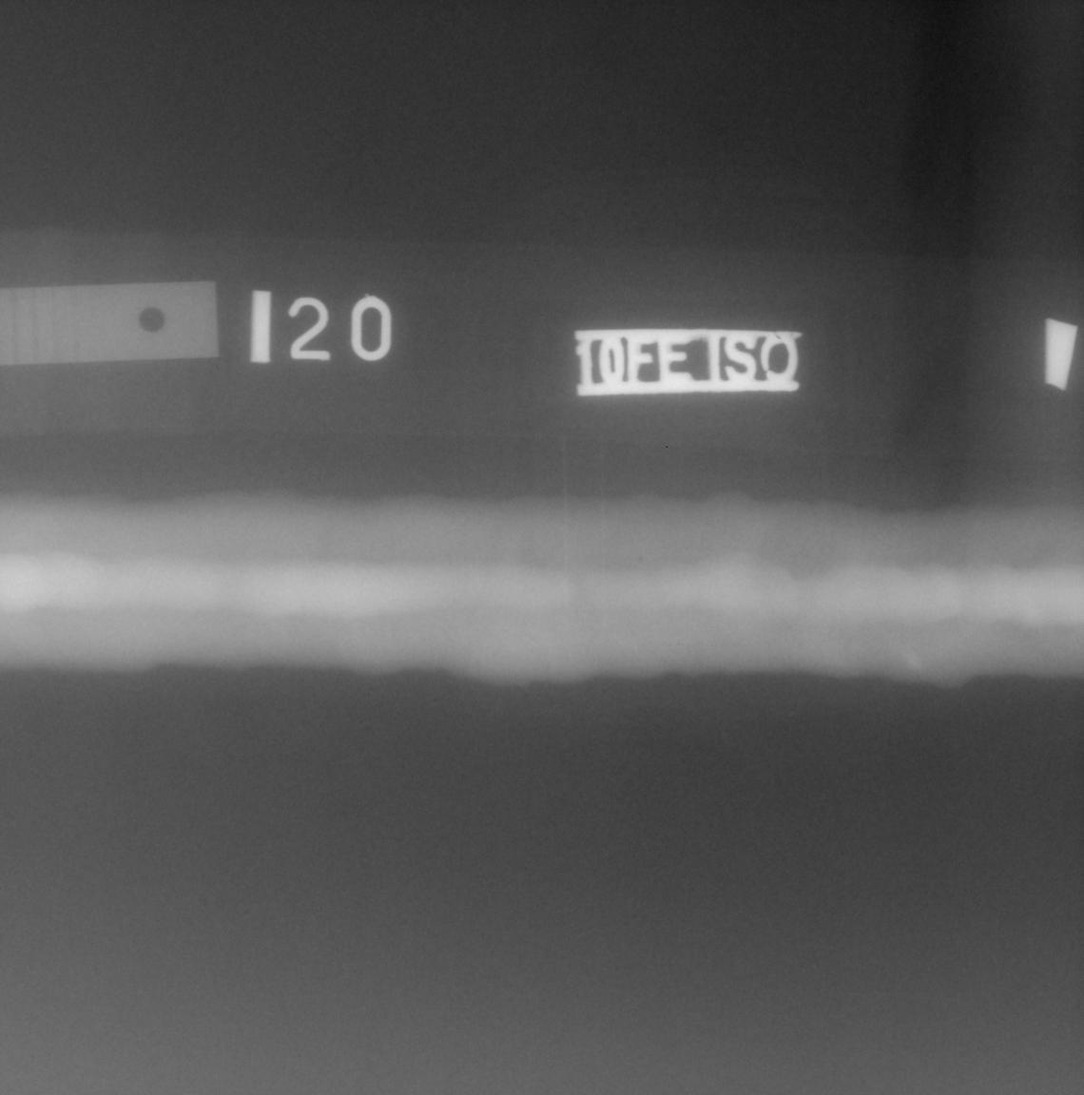Pore/Porosity: (637, 558, 642, 564)
